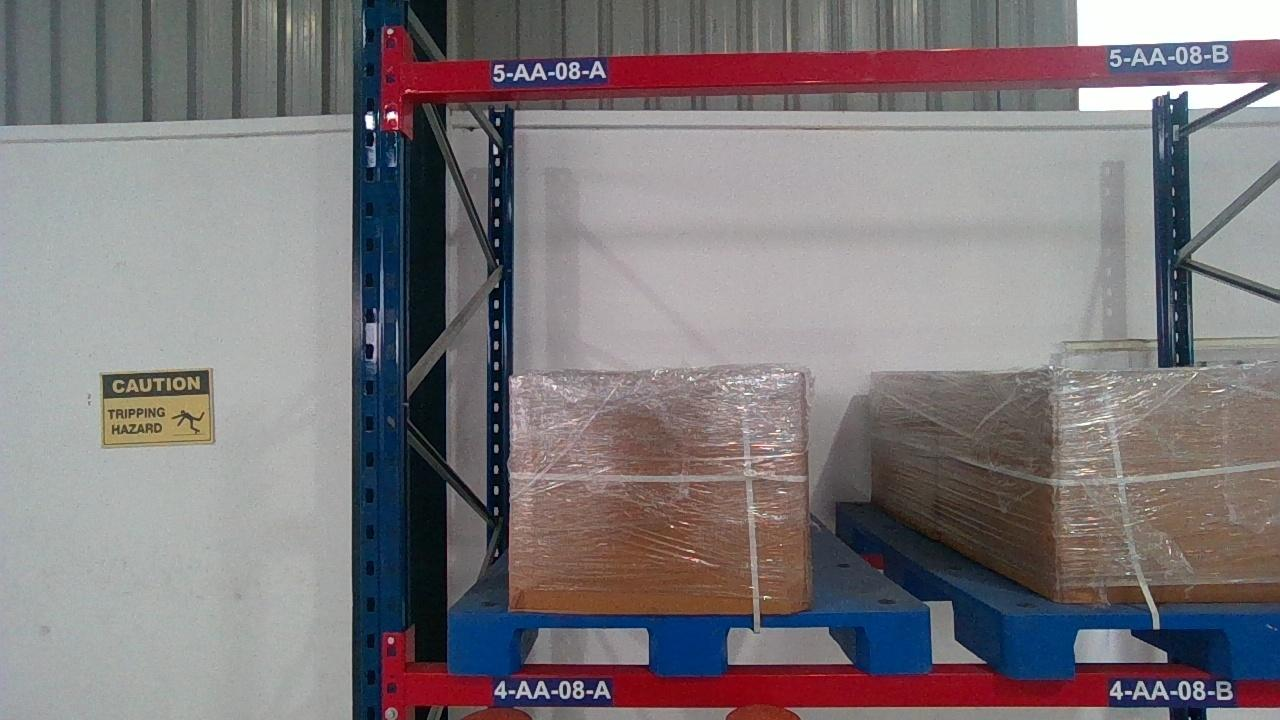h_rack: (400, 40, 1278, 92), (402, 670, 1275, 706)
small_pallet: (445, 612, 935, 672), (1011, 615, 1278, 673)
